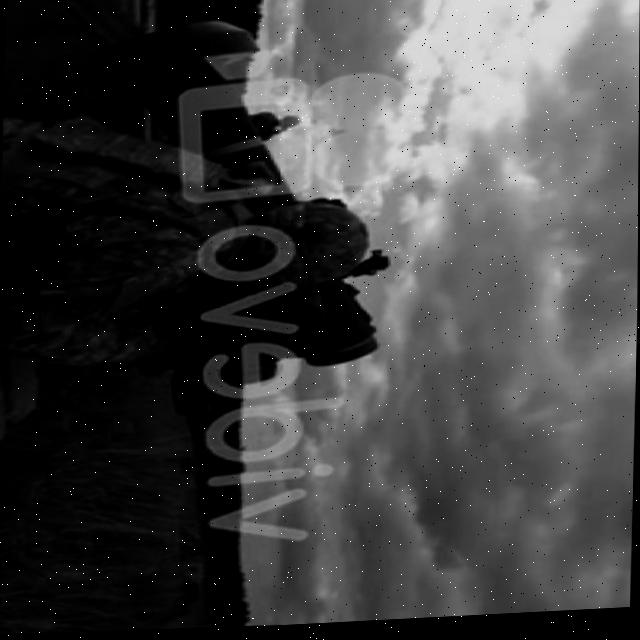rocket: (75, 12, 295, 222)
